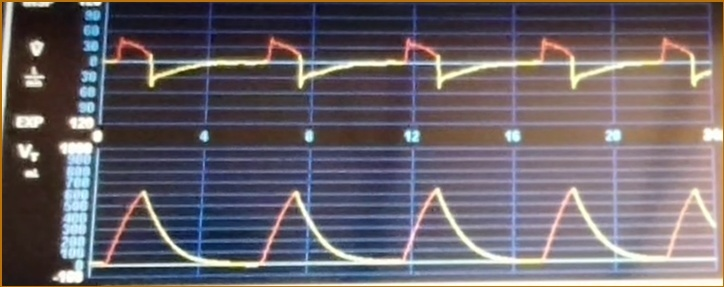Normal Flow: (106, 20, 711, 108)
Normal Volume: (97, 177, 714, 275)
